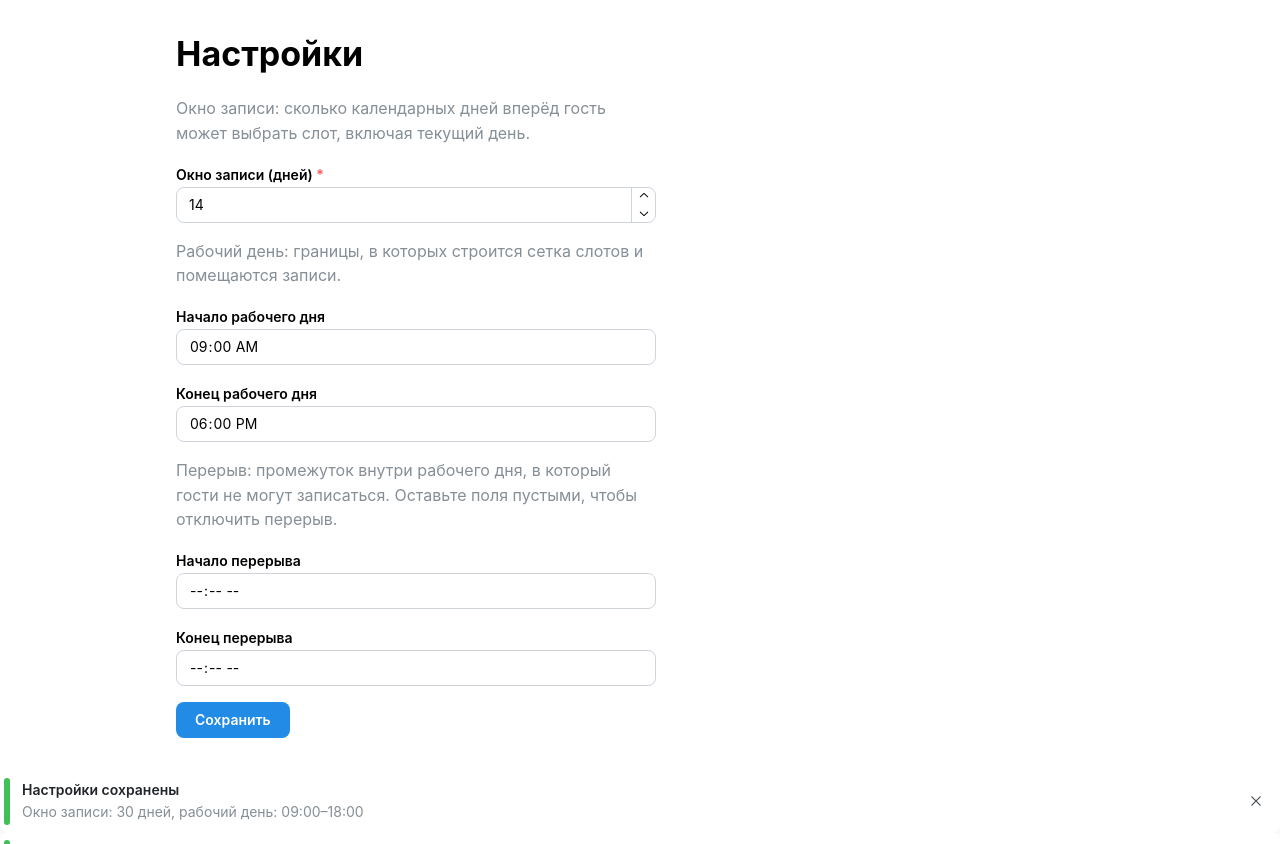
SettingsPage (настройки календаря) › не отправляет рабочий день, если конец раньше начала
The image size is (1280, 844).
Replace the text in the time field labelled "Начало рабочего дня" with "18:00" at (416, 347), box x1=176 y1=329 x2=656 y2=365
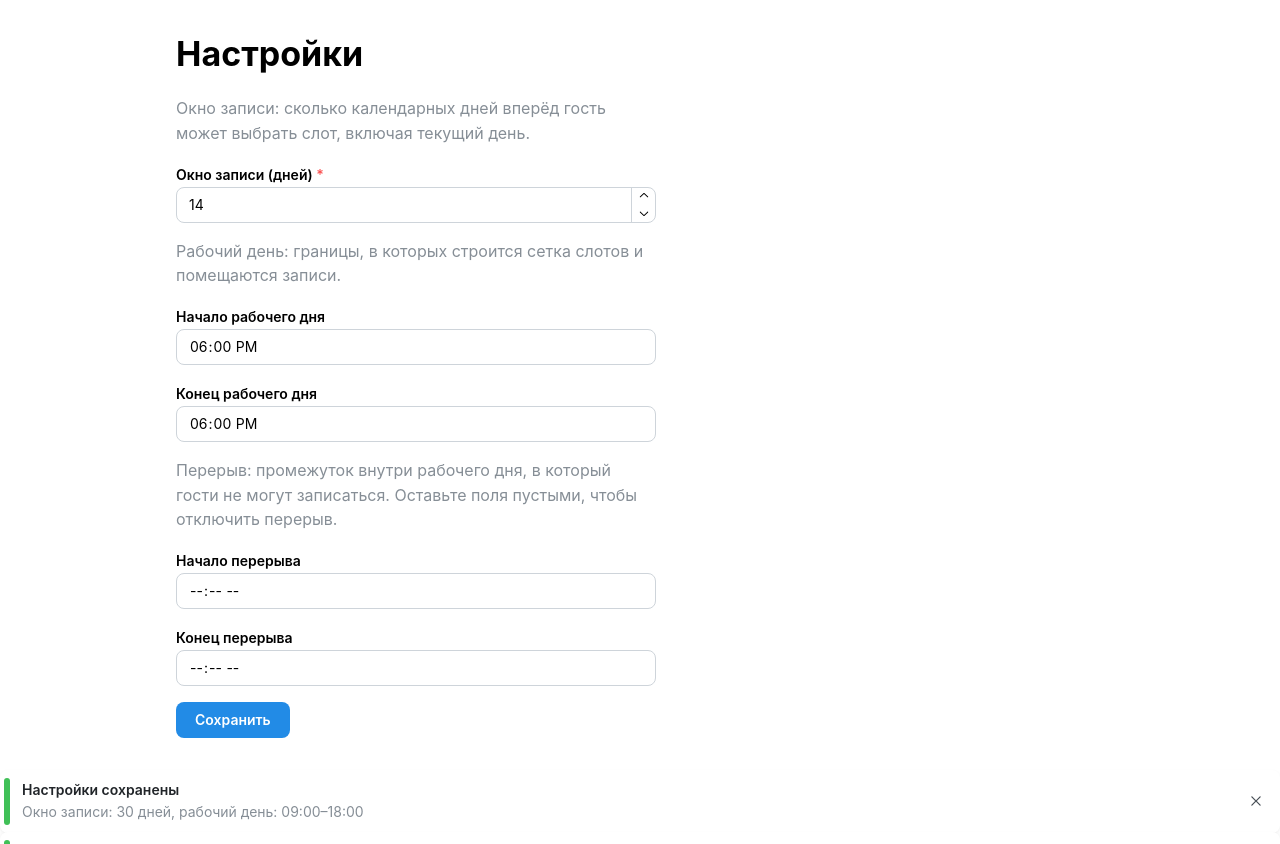
Replace the text in the time field labelled "Конец рабочего дня" with "09:00" at (416, 424), box x1=176 y1=406 x2=656 y2=442
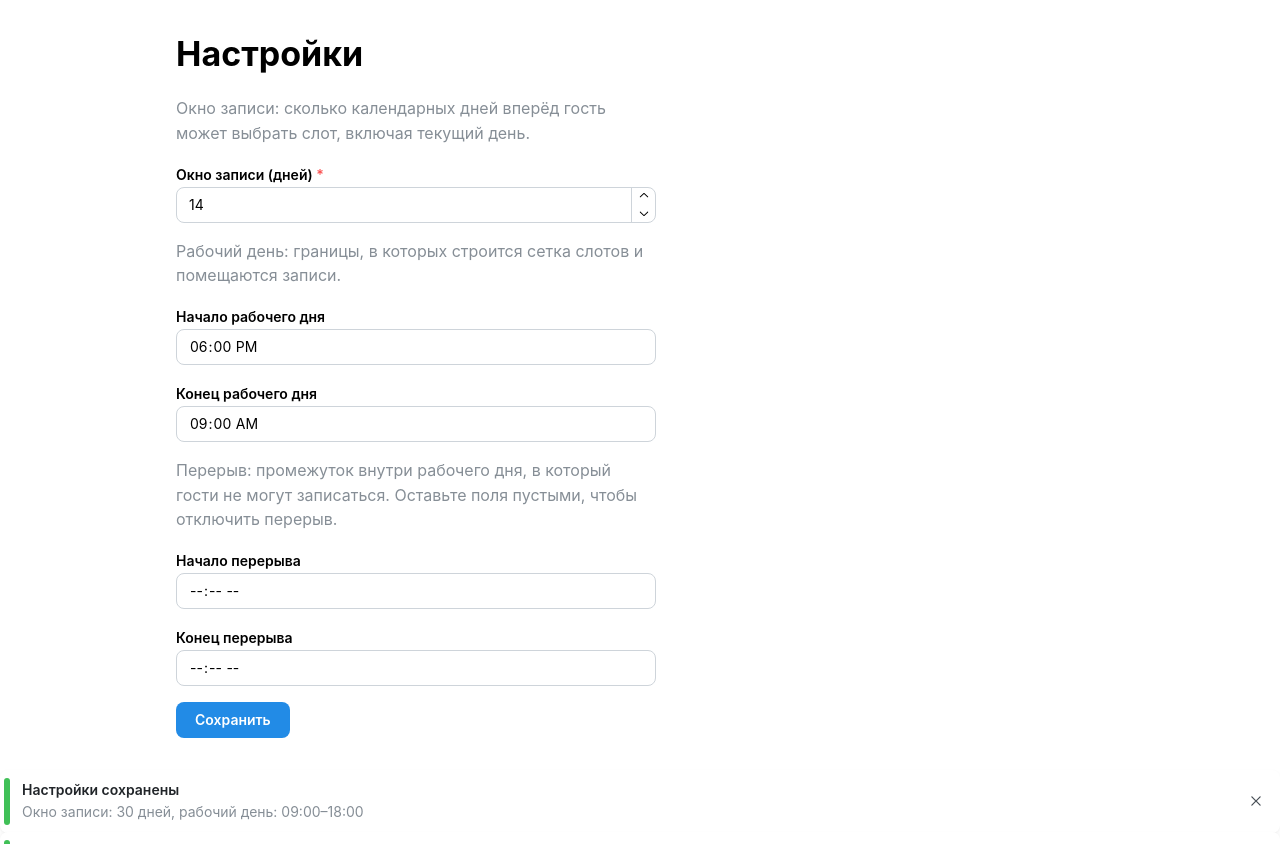
Click the button "Сохранить" at (233, 720), box x1=176 y1=702 x2=290 y2=738
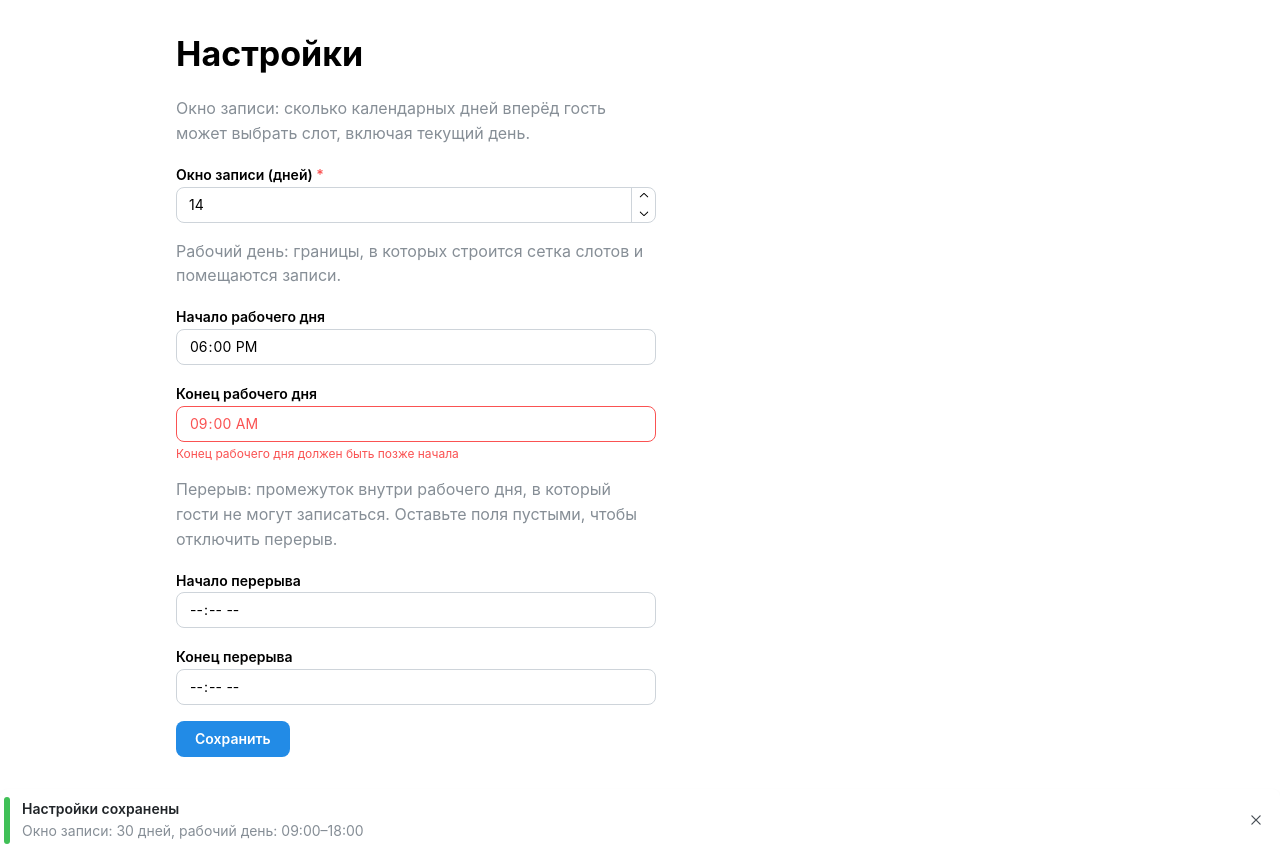
Check: the text "Конец рабочего дня должен быть позже начала" is shown, box x1=176 y1=446 x2=459 y2=461
